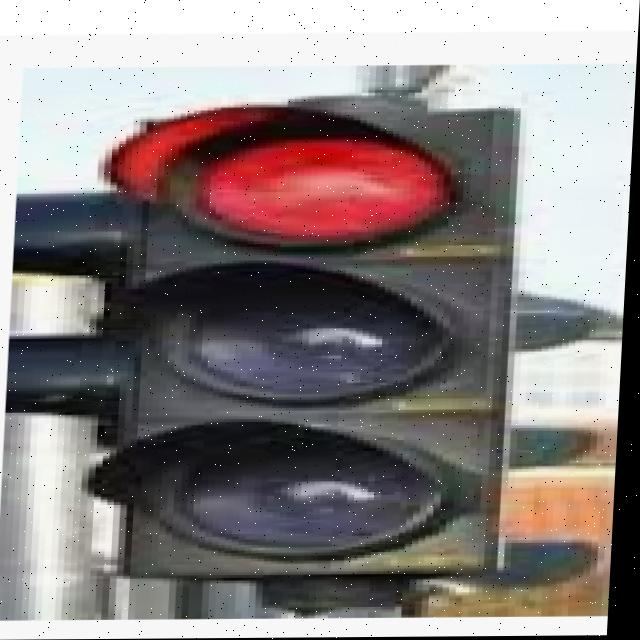light_traffic: (0, 17, 592, 626)
